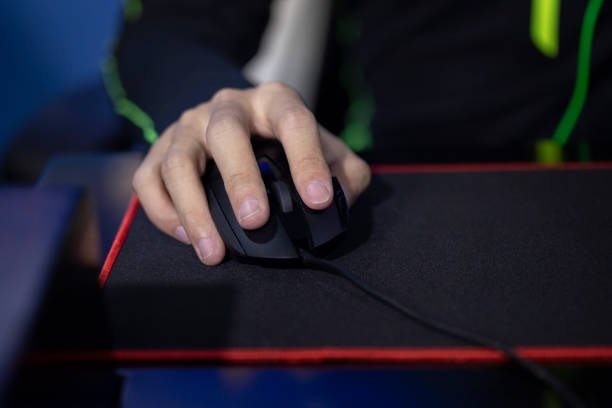mouse: (171, 105, 352, 264)
